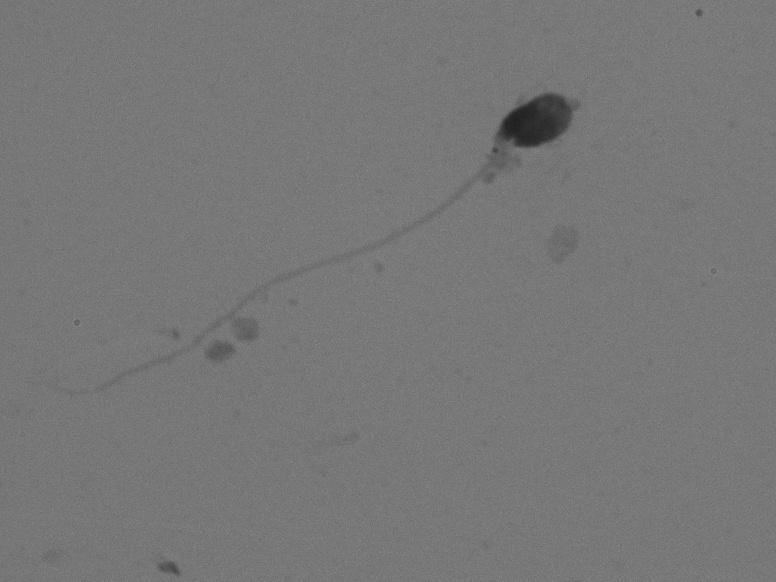Abnormal: (19, 87, 605, 424)
